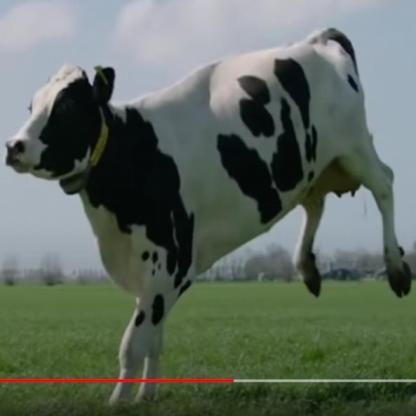cow: (7, 28, 414, 406)
